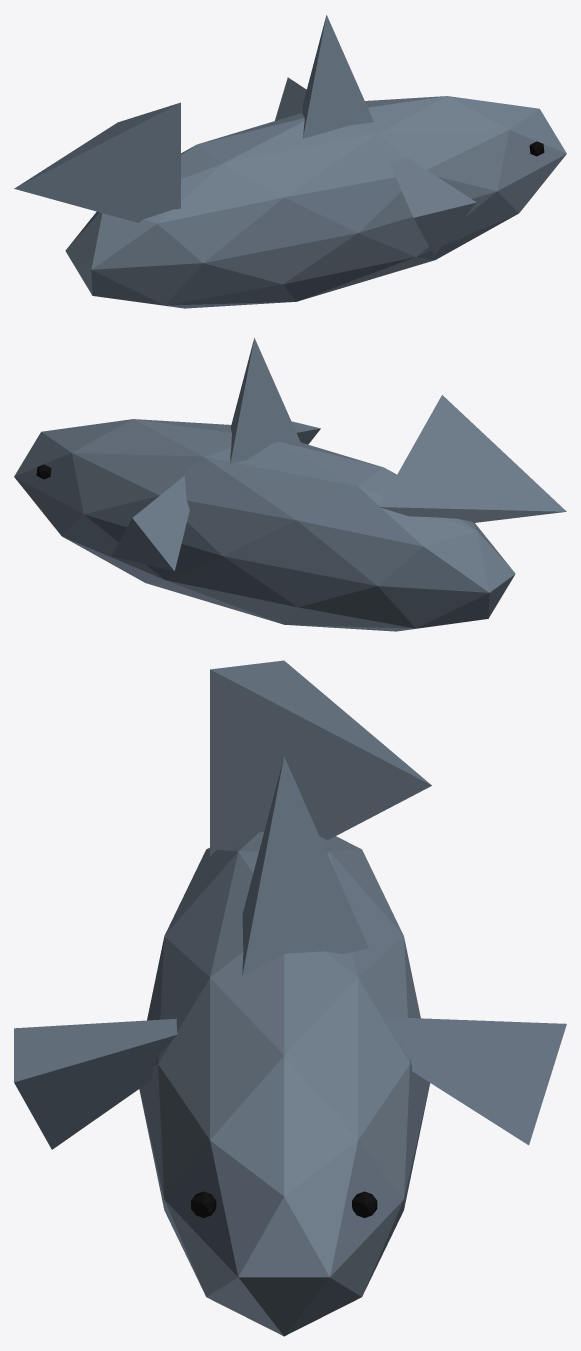
The model's file is ca-map.glb.
3 views of the same model, one above another, from view 1: azimuth 30°, elevation 25°; view 2: azimuth 150°, elevation 25°; view 3: azimuth 270°, elevation 25° (orthographic). The views are drawn at different scales.
Visible parts, largest first — view 1: ca-map; view 2: ca-map; view 3: ca-map.
Part boxes in pixels (x1,y1,x2,y2): ca-map: (14, 15, 566, 308); ca-map: (14, 338, 566, 631); ca-map: (14, 660, 566, 1336).
Bounding box in the file's own units: 5.18 × 2.5 × 2.61.
